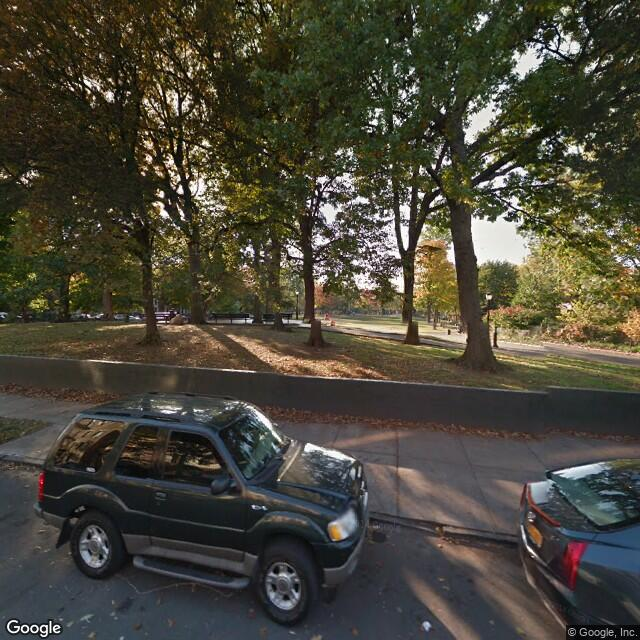litter: (411, 612, 440, 640)
